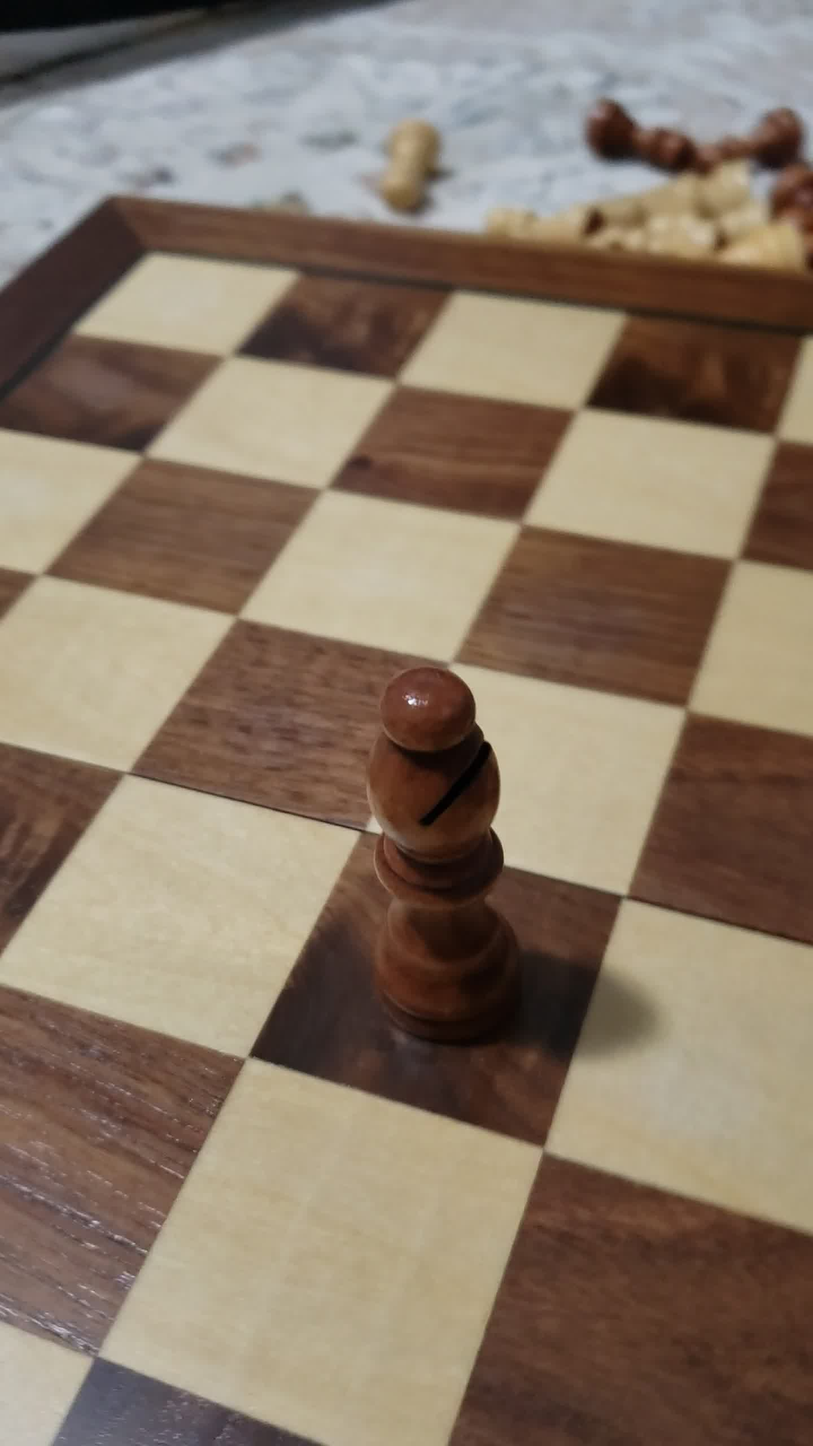black-bishop: (325, 664, 555, 1057)
